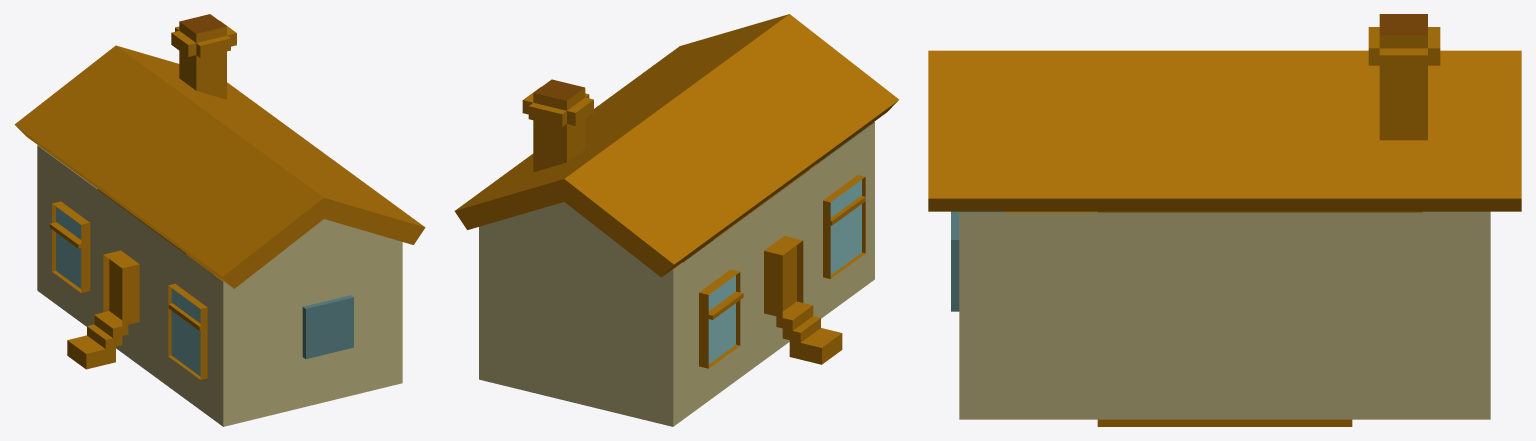
File: smallHouse.fbx
3 views of the same model, side by side, from view 1: azimuth 30°, elevation 25°; view 2: azimuth 150°, elevation 25°; view 3: azimuth 270°, elevation 25° (orthographic). The views are drawn at different scales.
Parts seen in each view (by area): view 1: Cube.001, Cube, Cube.003; view 2: Cube.001, Cube; view 3: Cube, Cube.001, Cube.003.
Part boxes in pixels (left/top/right/bottom): Cube.001: left=14, top=14, right=425, bottom=379; Cube: left=37, top=145, right=402, bottom=426; Cube.003: left=302, top=295, right=353, bottom=359; Cube.001: left=454, top=14, right=899, bottom=368; Cube: left=479, top=122, right=874, bottom=426; Cube: left=959, top=211, right=1490, bottom=419; Cube.001: left=928, top=14, right=1521, bottom=426; Cube.003: left=951, top=211, right=1004, bottom=311.
Size of the model in its own units: 314 by 463 by 325.
